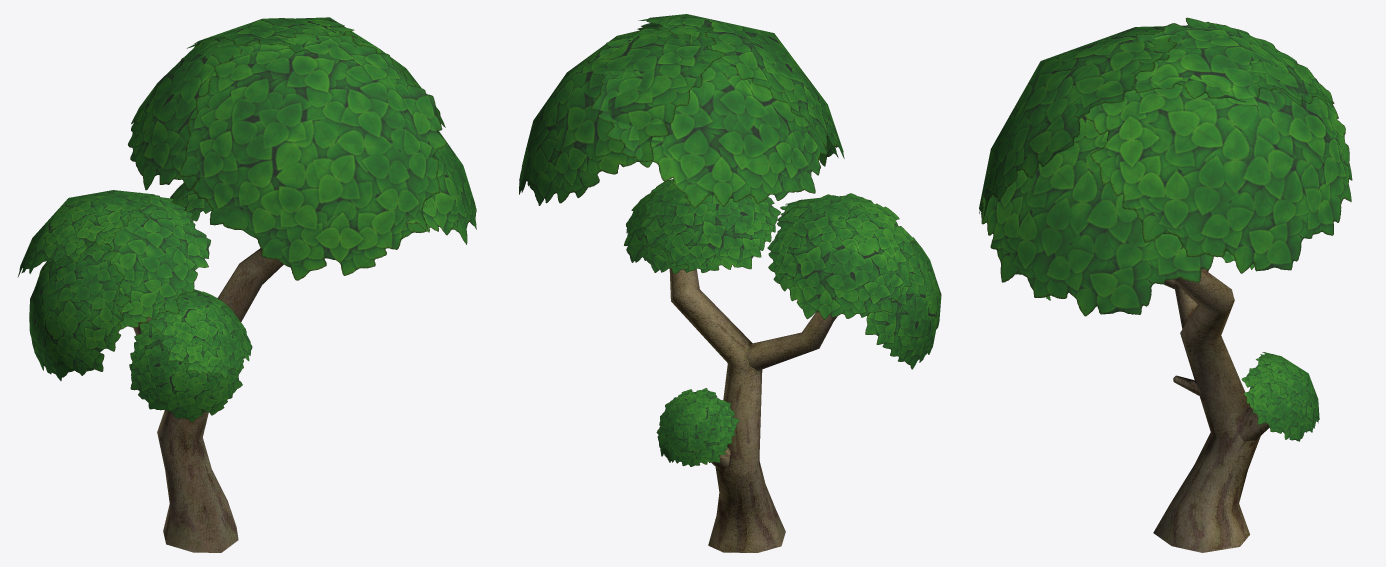
Rendered from Tree4.glb.
3 renders of one model, left to right at view 1: azimuth 30°, elevation 25°; view 2: azimuth 150°, elevation 25°; view 3: azimuth 270°, elevation 25°, orthographic. The views are drawn at different scales.
Visible parts, largest first — view 1: Plane.164, Plane.169, 1.001, Plane.167, Plane.163, Plane.170, Plane.171, Plane.168, Plane.166, Plane.165, Plane.173; view 2: Plane.163, Plane.165, Plane.168, 1.001, Plane.173, Plane.164, Plane.169, Plane.175, Plane.172; view 3: Plane.165, Plane.166, 1.001, Plane.164, Plane.174, Plane.163, Plane.175.
Boxes of the visible parts, bbox=[...] form: Plane.164: bbox=[179, 32, 446, 280]; Plane.169: bbox=[29, 241, 130, 380]; 1.001: bbox=[133, 248, 283, 552]; Plane.167: bbox=[43, 192, 210, 329]; Plane.163: bbox=[128, 18, 356, 190]; Plane.170: bbox=[129, 321, 243, 422]; Plane.171: bbox=[147, 289, 252, 379]; Plane.168: bbox=[17, 190, 157, 277]; Plane.166: bbox=[405, 131, 476, 244]; Plane.165: bbox=[181, 17, 445, 127]; Plane.173: bbox=[170, 180, 211, 221]; Plane.163: bbox=[587, 28, 827, 208]; Plane.165: bbox=[519, 25, 725, 205]; Plane.168: bbox=[767, 193, 914, 319]; 1.001: bbox=[669, 268, 838, 552]; Plane.173: bbox=[640, 179, 780, 272]; Plane.164: bbox=[637, 14, 844, 166]; Plane.169: bbox=[865, 228, 941, 369]; Plane.175: bbox=[656, 388, 739, 466]; Plane.172: bbox=[624, 181, 689, 274]; Plane.165: bbox=[1083, 17, 1352, 273]; Plane.166: bbox=[981, 115, 1213, 316]; 1.001: bbox=[1153, 268, 1269, 552]; Plane.164: bbox=[979, 25, 1186, 220]; Plane.174: bbox=[1241, 357, 1317, 441]; Plane.163: bbox=[1133, 22, 1334, 107]; Plane.175: bbox=[1256, 352, 1319, 423].
Size of the model in its own units: 6.76 by 7.78 by 5.23.
2 materials, 2 textured.
